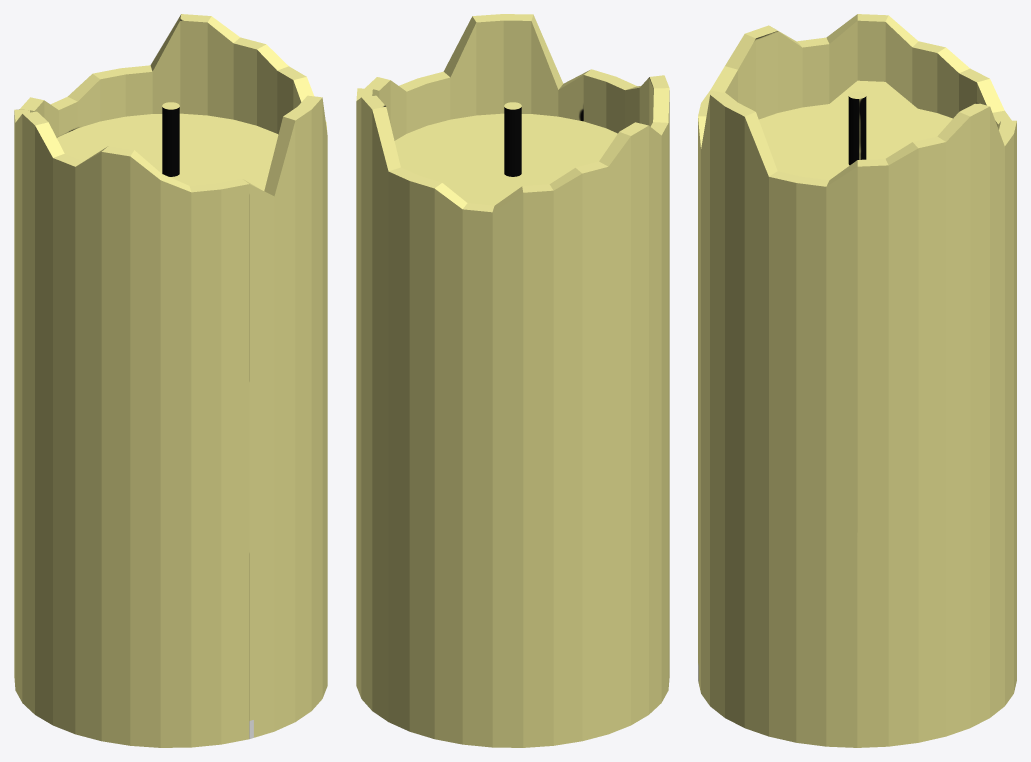
File: Kerze.fbx
3 renders of one model, left to right at view 1: azimuth 30°, elevation 25°; view 2: azimuth 150°, elevation 25°; view 3: azimuth 270°, elevation 25°, orthographic.
Visible parts, largest first — view 1: Cylinder; view 2: Cylinder; view 3: Cylinder.
Boxes of the visible parts, <box> form: Cylinder: <box>14,14,327,747</box>; Cylinder: <box>356,14,669,747</box>; Cylinder: <box>698,14,1016,747</box>.
Bounding box in the file's own units: 10.54 × 22.3 × 10.54.
